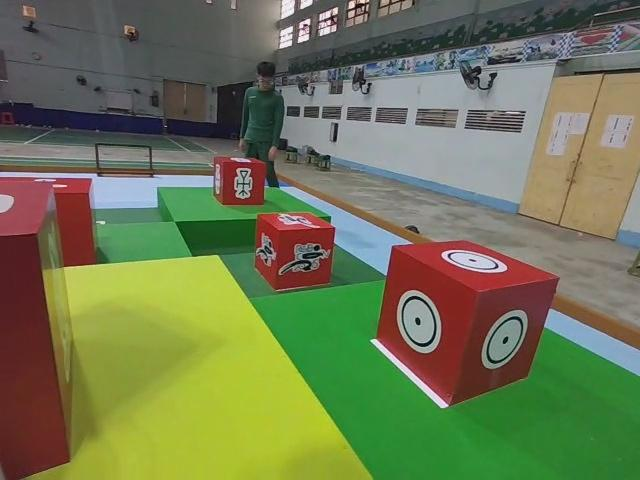R1: (255, 212, 335, 290)
R2 Real: (371, 239, 559, 409), (213, 158, 265, 207)
